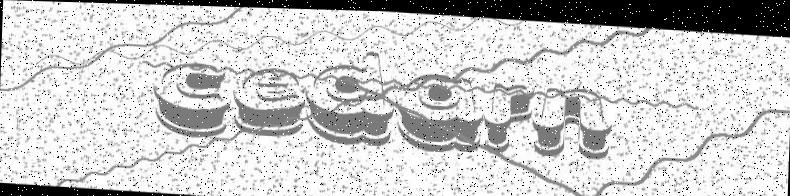a: (395, 68, 484, 150)
c: (151, 57, 233, 139)
d: (304, 44, 398, 145)
e: (232, 62, 307, 137)
n: (533, 81, 614, 157)
r: (482, 77, 536, 154)
